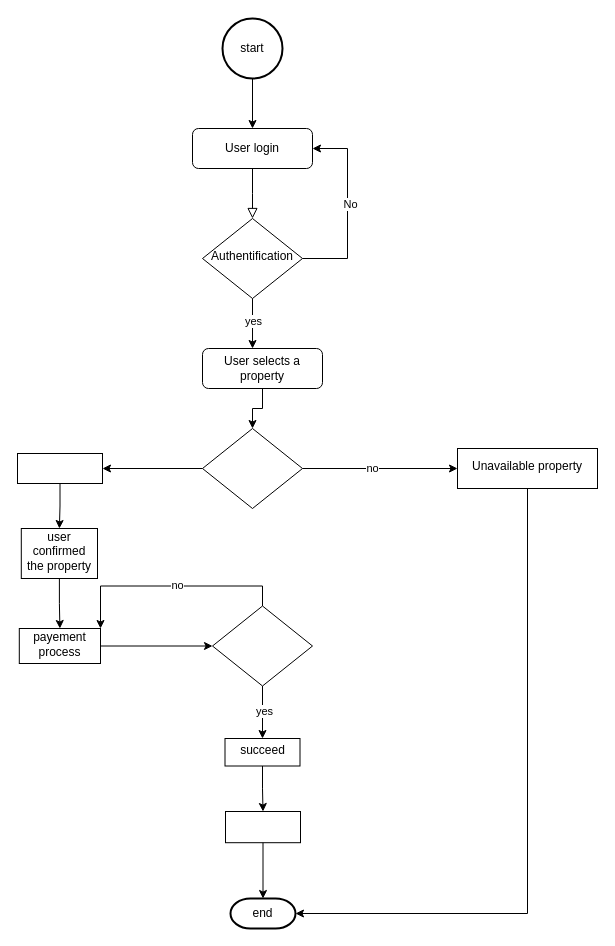
This 615x946 diagram has some shape labels left out. The centre of each missing label's shape, as x and y in pixels:
avaibility: point (252, 468)
confirmed notification: point (262, 826)
payement status: point (262, 645)
User details: point (59, 468)
